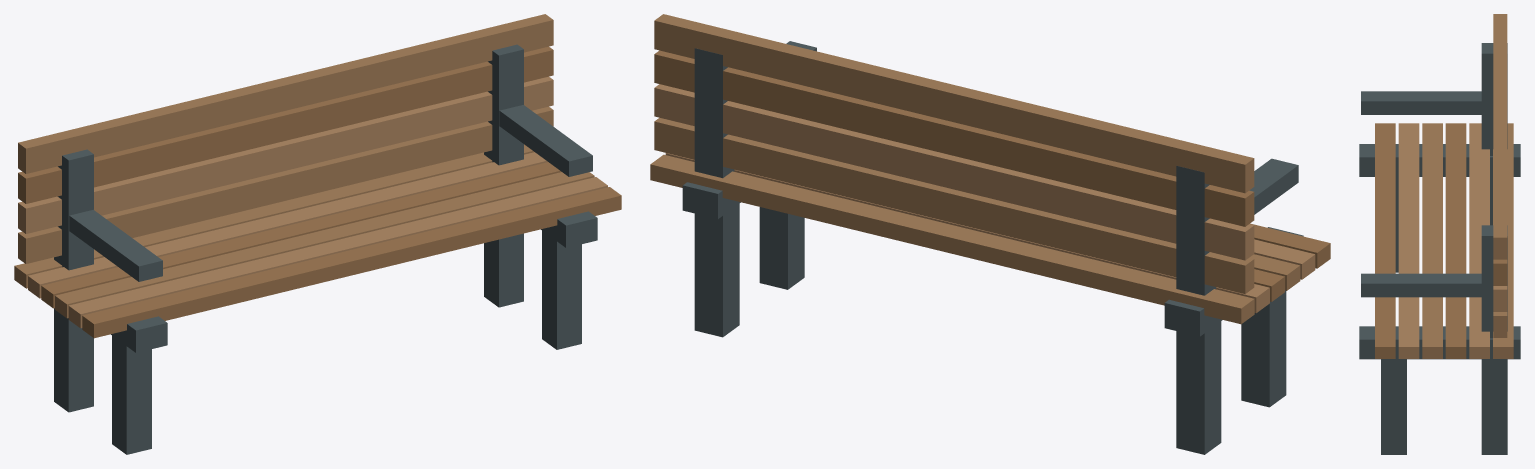
Rendered from bench.glb.
The picture shows the model from 3 angles, left to right: view 1: azimuth 30°, elevation 25°; view 2: azimuth 150°, elevation 25°; view 3: azimuth 270°, elevation 25°; orthographic projection. The views are drawn at different scales.
Parts seen in each view (by area): view 1: bench; view 2: bench; view 3: bench.
Part boxes in pixels (x1=…): bench: x1=14, y1=14, x2=621, y2=454; bench: x1=650, y1=14, x2=1330, y2=454; bench: x1=1359, y1=14, x2=1520, y2=454.
Bounding box in the file's own units: 1.84 × 0.8925 × 0.56.
